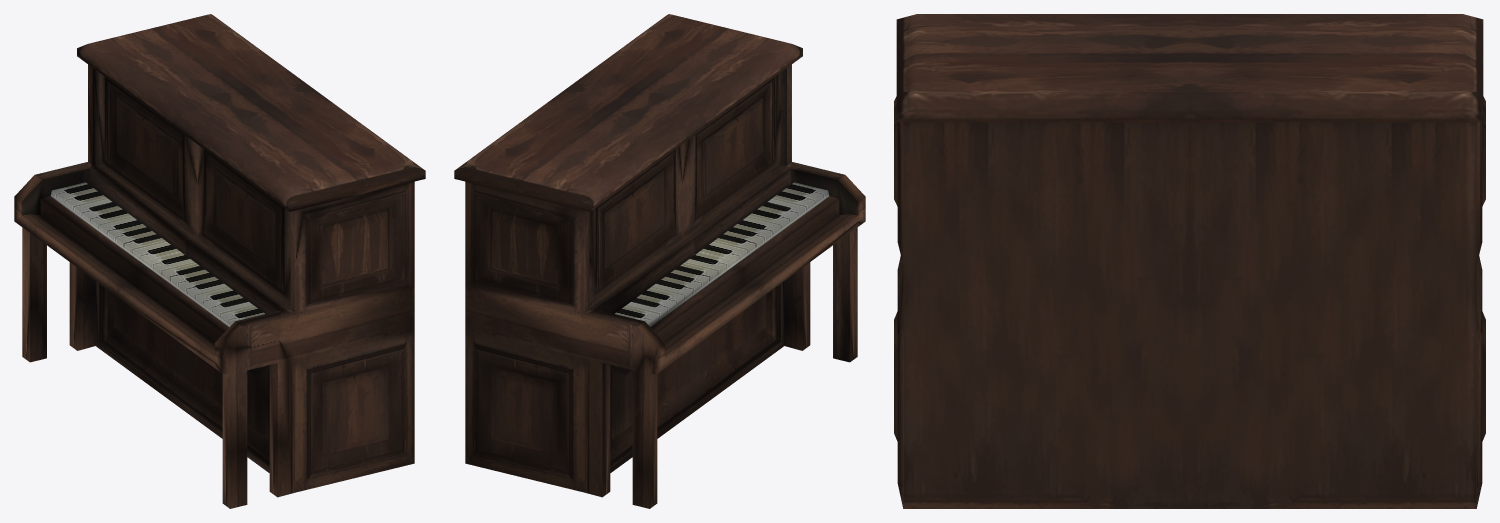
Rendered from piano.fbx.
3 views of the same model, side by side, from view 1: azimuth 30°, elevation 25°; view 2: azimuth 150°, elevation 25°; view 3: azimuth 270°, elevation 25° (orthographic). The views are drawn at different scales.
Visible parts, largest first — view 1: candlestick:pCube1; view 2: candlestick:pCube1; view 3: candlestick:pCube1.
Part boxes in pixels (x1=…): candlestick:pCube1: x1=14, y1=14, x2=425, y2=508; candlestick:pCube1: x1=454, y1=14, x2=865, y2=508; candlestick:pCube1: x1=894, y1=14, x2=1485, y2=508.
Size of the model in its own units: 1.69 by 2.42 by 3.12.
